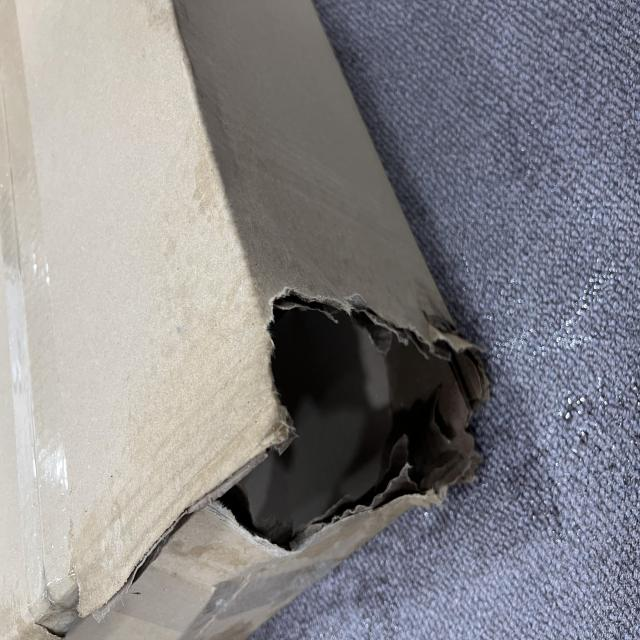damaged: (59, 283, 267, 639)
